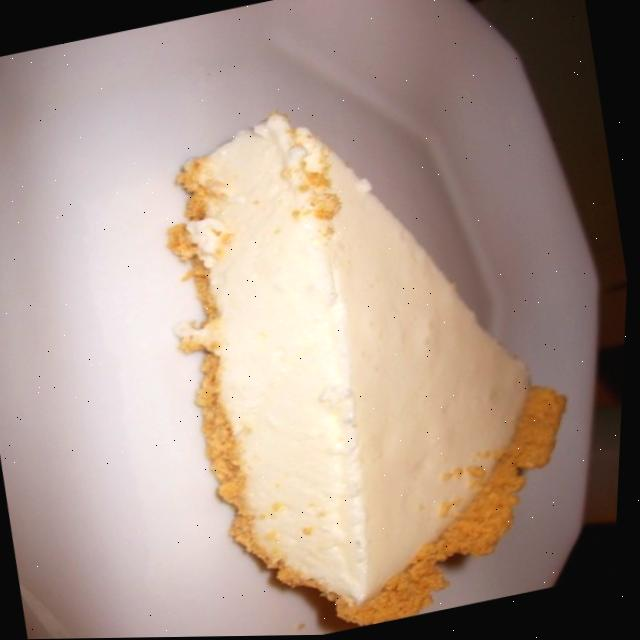蛋糕甜品: (88, 36, 638, 639)
